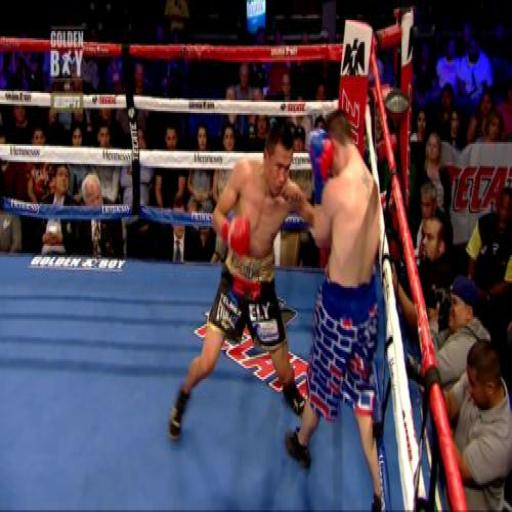boxing: (280, 107, 424, 512), (167, 120, 316, 443)
